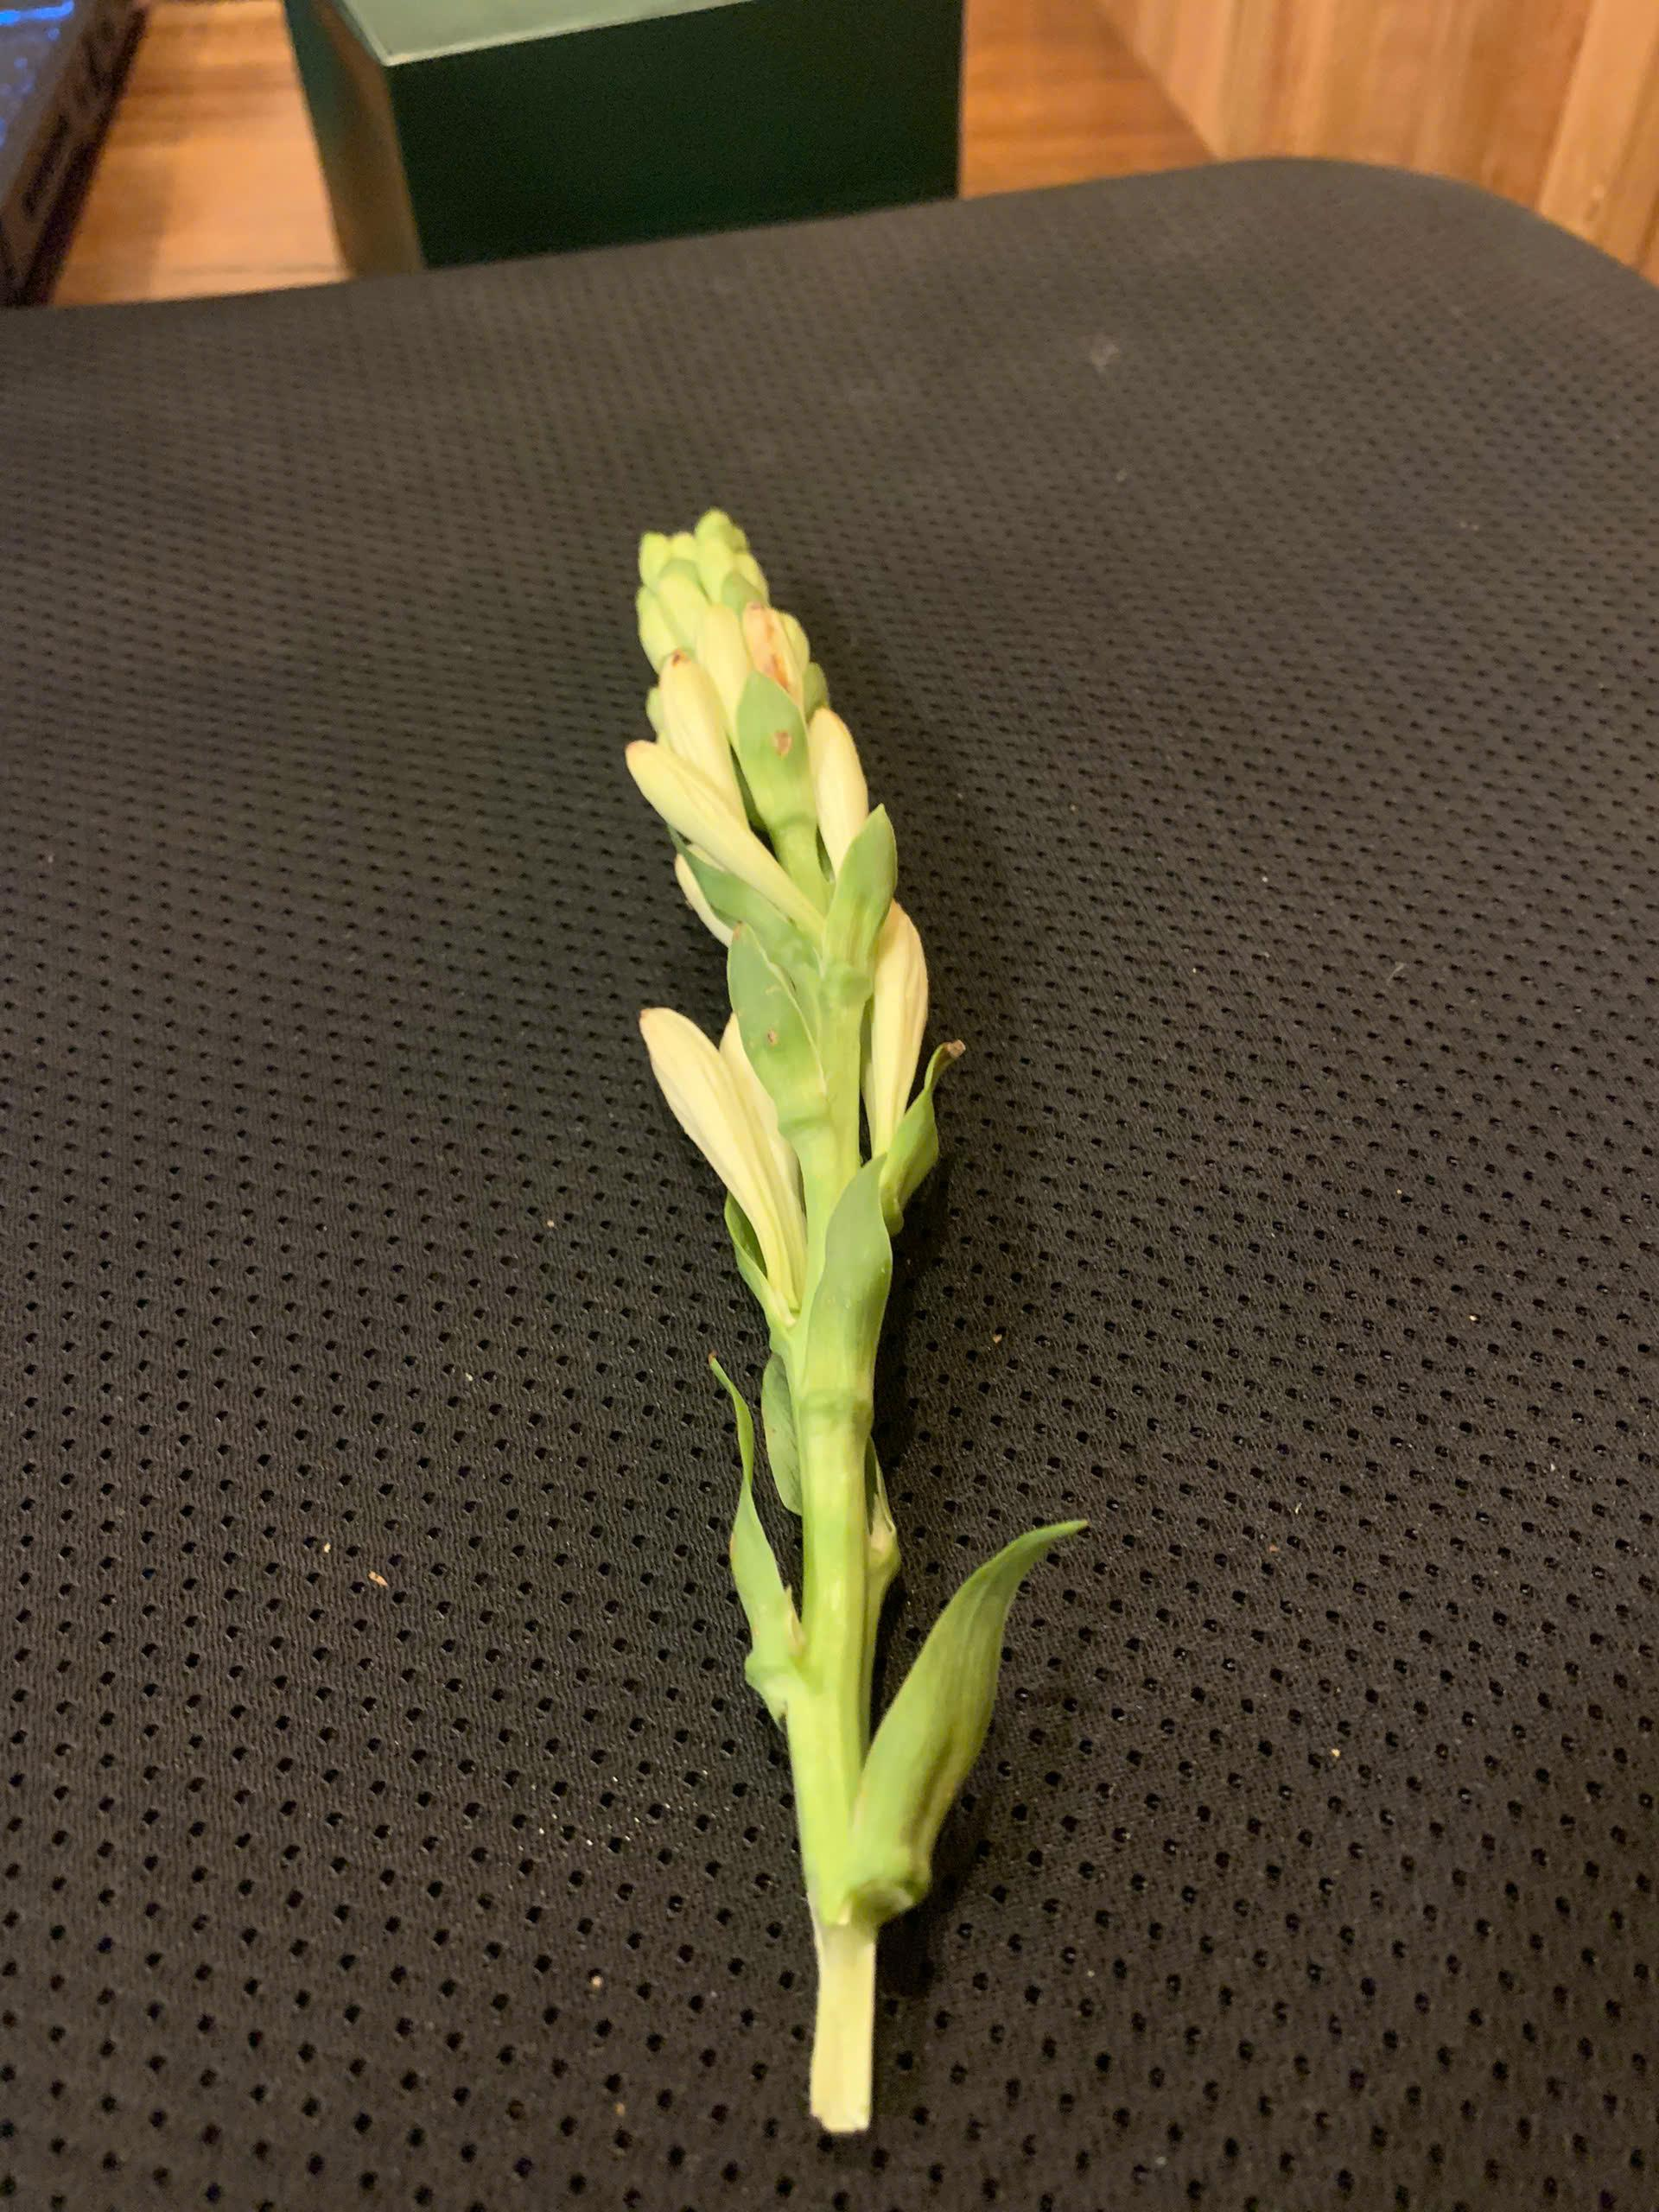Huu co: (640, 502, 1096, 2134)
